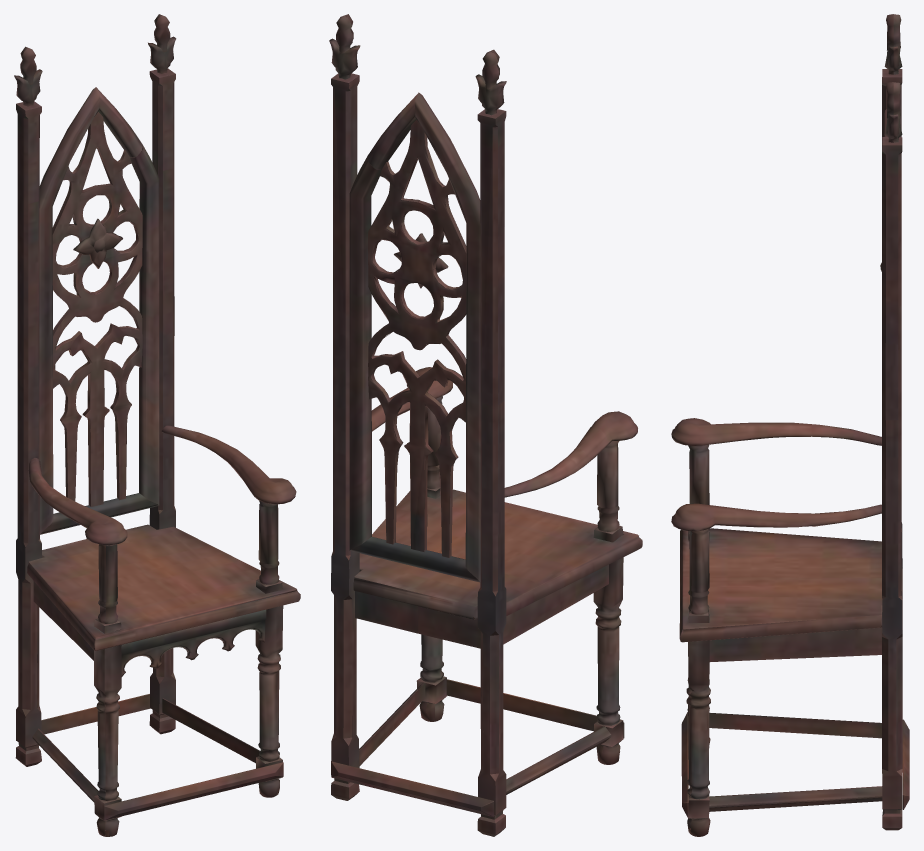
The model's file is WoodenChair_01.glb.
3 views of the same model, side by side, from view 1: azimuth 30°, elevation 25°; view 2: azimuth 150°, elevation 25°; view 3: azimuth 270°, elevation 25° (orthographic). The views are drawn at different scales.
Parts seen in each view (by area): view 1: WoodenChair_01; view 2: WoodenChair_01; view 3: WoodenChair_01.
Boxes of the visible parts, left/top/right/bottom form: WoodenChair_01: left=14, top=14, right=300, bottom=836; WoodenChair_01: left=329, top=14, right=642, bottom=836; WoodenChair_01: left=671, top=14, right=909, bottom=836.
Size of the model in its own units: 0.6886 by 2.27 by 0.6585.
1 material, 1 textured.
